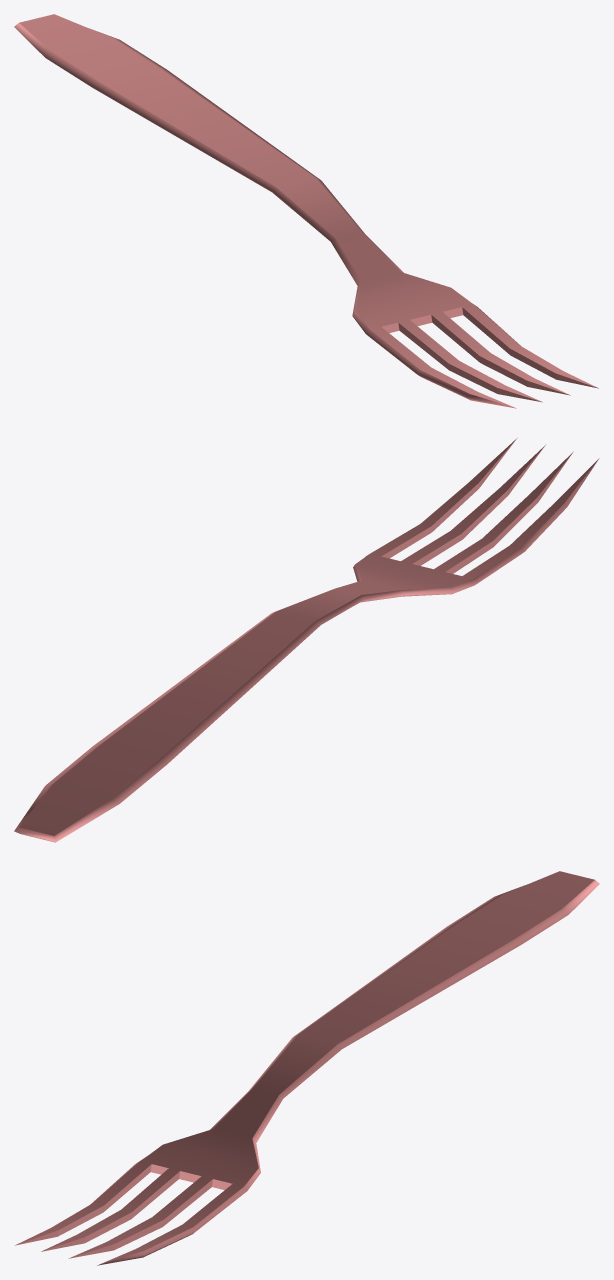
The model's file is TFYK_fork.FBX.
The picture shows the model from 3 angles, top to bottom: view 1: azimuth 30°, elevation 25°; view 2: azimuth 150°, elevation 25°; view 3: azimuth 330°, elevation 25°; orthographic projection.
Visible parts, largest first — view 1: TFYK_fork; view 2: TFYK_fork; view 3: TFYK_fork.
Boxes of the visible parts, x1,y1,x2,y2 form: TFYK_fork: (14,14,598,408); TFYK_fork: (14,438,599,842); TFYK_fork: (15,871,599,1265).
Size of the model in its own units: 0.0177 by 0.0082 by 0.1435.
